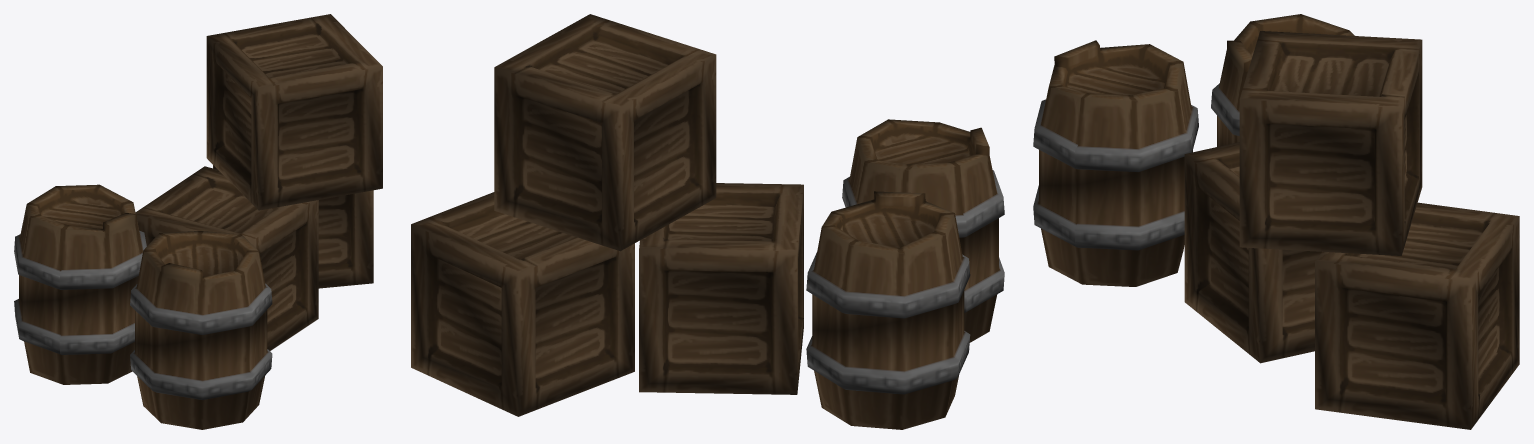
File: Crates n barrels.fbx
3 views of the same model, side by side, from view 1: azimuth 30°, elevation 25°; view 2: azimuth 150°, elevation 25°; view 3: azimuth 270°, elevation 25° (orthographic). The views are drawn at different scales.
Visible parts, largest first — view 1: Crates n barrels; view 2: Crates n barrels; view 3: Crates n barrels.
Boxes of the visible parts, x1,y1,x2,y2 form: Crates n barrels: [14, 14, 382, 429]; Crates n barrels: [411, 14, 1004, 429]; Crates n barrels: [1033, 14, 1519, 429].
Size of the model in its own units: 70.15 by 79.88 by 47.24.
1 material, 1 textured.
